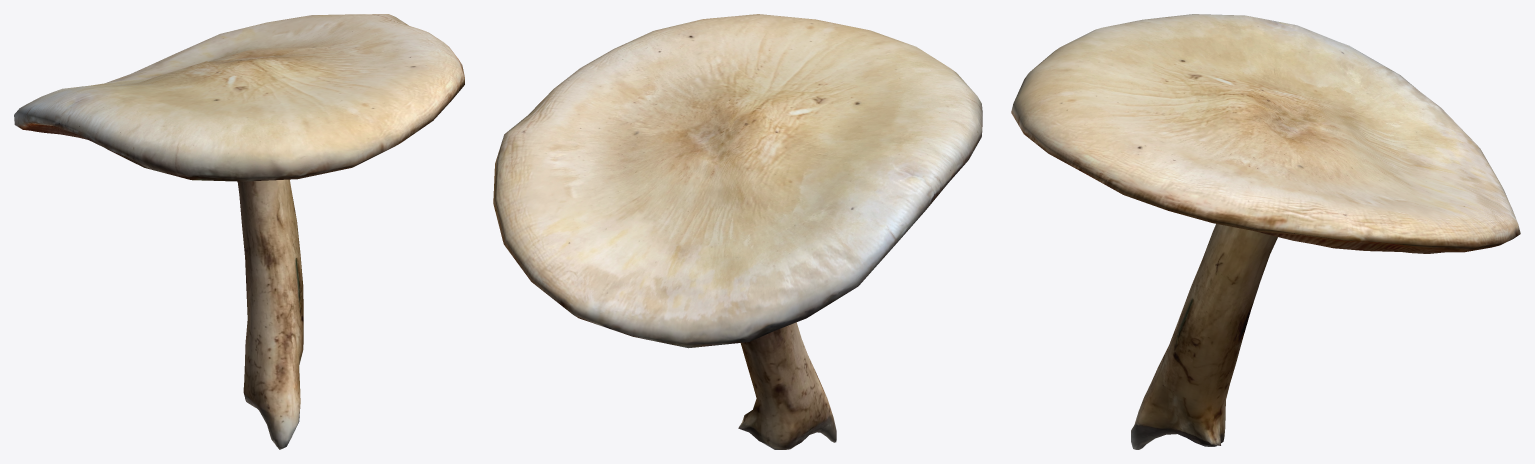
Rendered from mushroom_photoscan_lowpoly.glb.
3 views of the same model, side by side, from view 1: azimuth 30°, elevation 25°; view 2: azimuth 150°, elevation 25°; view 3: azimuth 270°, elevation 25° (orthographic). The views are drawn at different scales.
Visible parts, largest first — view 1: Object_2; view 2: Object_2; view 3: Object_2.
Part boxes in pixels (x1,y1,x2,y2): Object_2: (14, 14, 464, 449); Object_2: (493, 14, 982, 449); Object_2: (1011, 14, 1520, 449).
Bounding box in the file's own units: 0.7073 × 0.6409 × 0.7831.
Materials: 1 (1 with a texture image).
